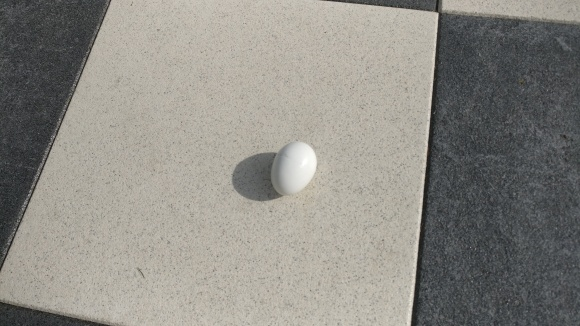egg: (271, 141, 318, 196)
